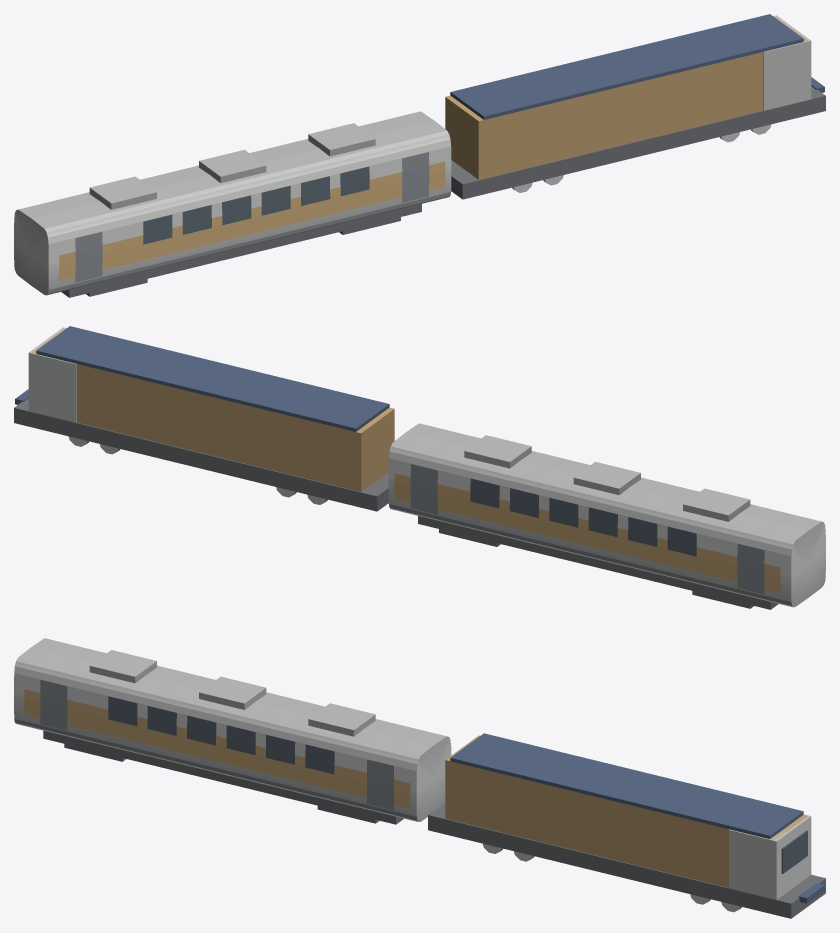
The model's file is 05_TRA_classic_3x2-06.glb.
3 renders of one model, top to bottom at view 1: azimuth 30°, elevation 25°; view 2: azimuth 150°, elevation 25°; view 3: azimuth 330°, elevation 25°, orthographic.
Bounding box in the file's own units: 37.8 × 4.06 × 2.94.
